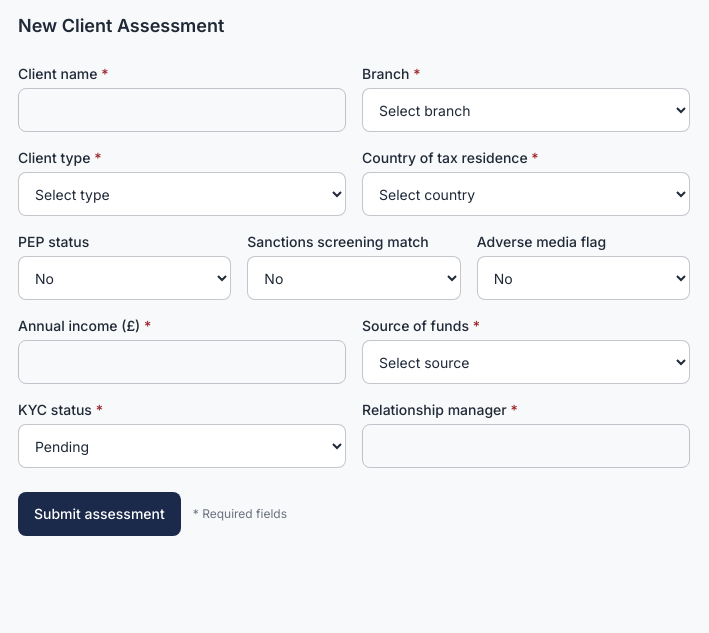
Test case: IntakeForm — live classification › shows MEDIUM classification for ENTITY type
Select "Netherlands" in the dropdown labelled "Country of tax residence *": [526, 194] box [362,172,690,216]
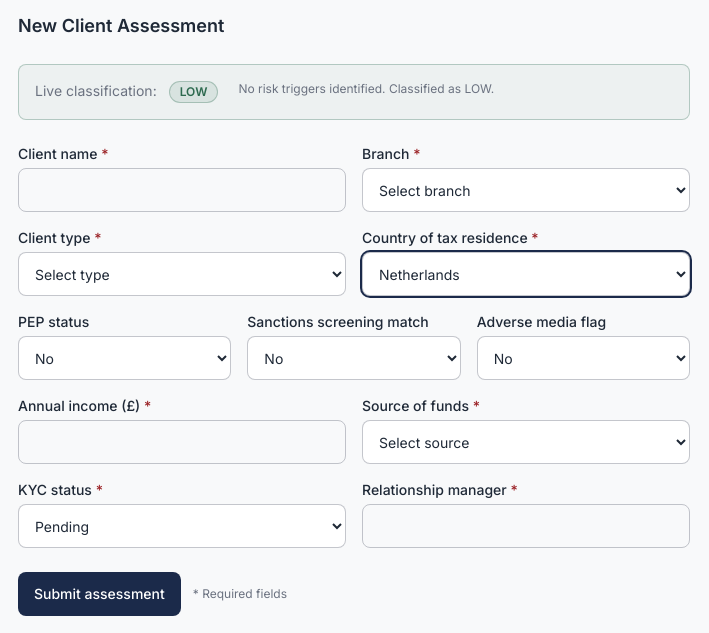
Select "Entity" in the dropdown labelled "Client type *": [182, 274] box [18,252,346,296]
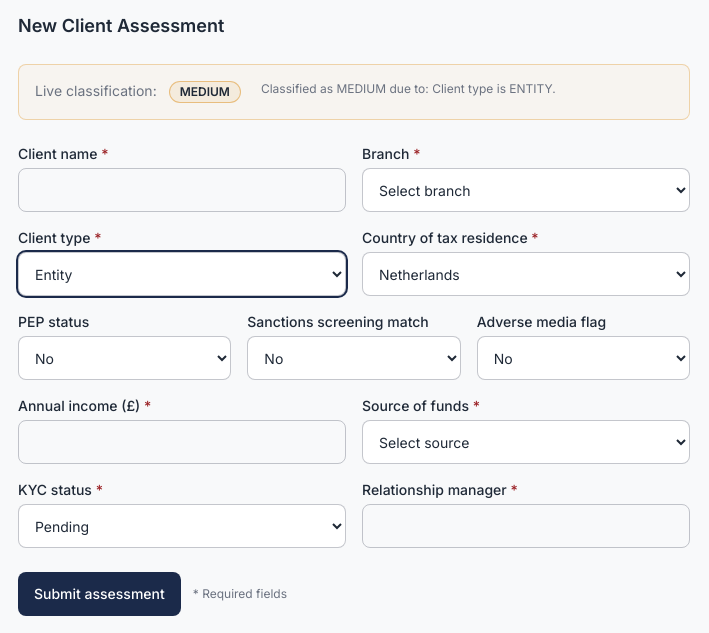
Now the text "MEDIUM" is shown, box [169,81,241,103]
